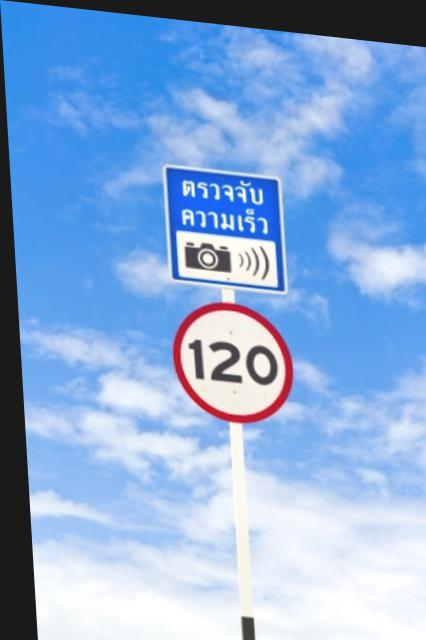limit120: (168, 289, 294, 423)
